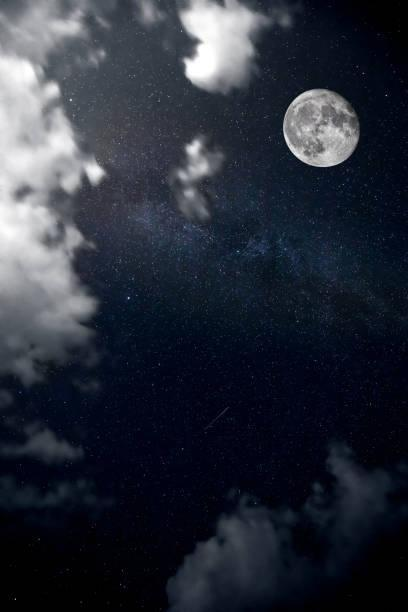moon: (278, 78, 360, 168)
